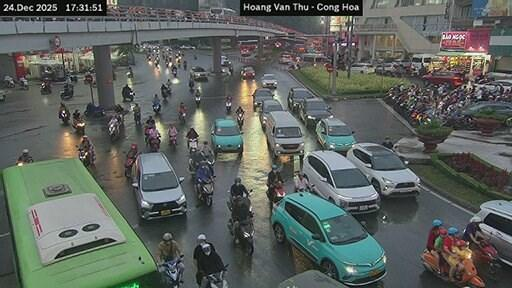motorbike: (470, 241, 501, 279), (227, 216, 251, 253), (454, 256, 483, 286), (422, 250, 448, 279), (160, 255, 182, 287), (195, 180, 213, 206), (207, 265, 227, 287), (266, 180, 284, 202), (186, 157, 202, 175), (83, 103, 105, 116), (77, 148, 92, 166), (124, 154, 134, 176), (60, 84, 73, 99), (108, 121, 118, 140), (71, 118, 82, 134), (150, 135, 159, 151), (58, 109, 69, 122), (160, 86, 170, 99), (16, 157, 32, 165), (236, 112, 243, 129), (41, 82, 50, 94), (19, 77, 28, 89), (121, 91, 134, 99), (227, 193, 233, 210), (188, 138, 197, 149), (169, 134, 176, 148), (243, 197, 250, 211), (3, 76, 12, 86), (178, 112, 185, 124), (134, 111, 140, 124), (224, 99, 230, 112), (153, 102, 160, 112), (188, 79, 194, 90), (195, 94, 199, 107), (70, 73, 76, 81), (125, 70, 133, 76), (172, 68, 176, 76), (182, 62, 185, 68), (192, 54, 195, 58), (249, 189, 252, 192), (227, 190, 229, 192)
